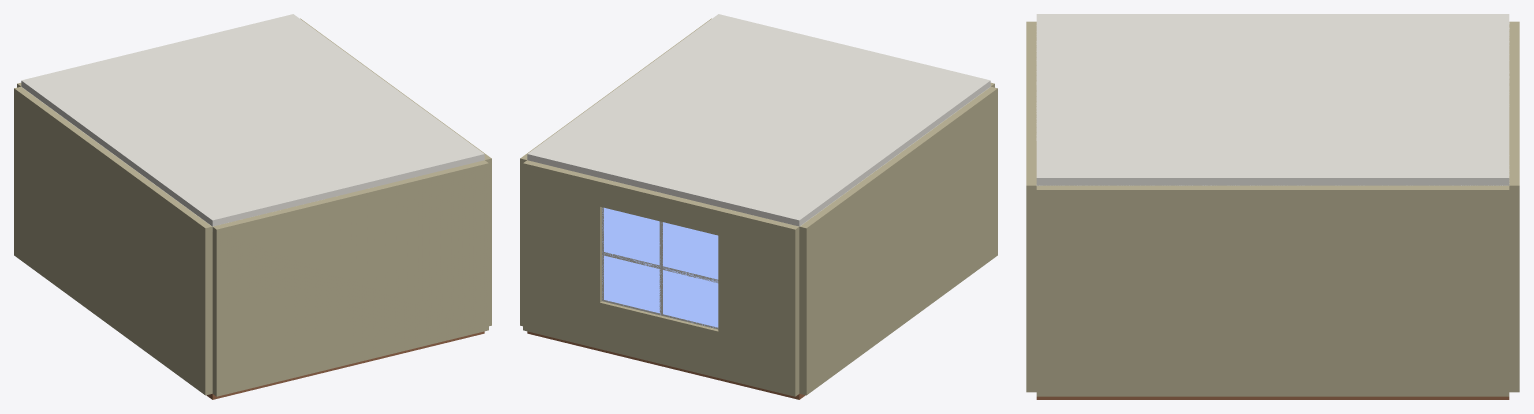
File: hotel-room-1967-p3.glb
The picture shows the model from 3 angles, left to right: view 1: azimuth 30°, elevation 25°; view 2: azimuth 150°, elevation 25°; view 3: azimuth 270°, elevation 25°; orthographic projection. The views are drawn at different scales.
Visible parts, largest first — view 1: room-shell; view 2: room-shell, window-mesh; view 3: room-shell.
Part boxes in pixels (left/top/right/bottom): room-shell: left=14, top=14, right=491, bottom=399; room-shell: left=520, top=14, right=997, bottom=399; window-mesh: left=602, top=207, right=718, bottom=329; room-shell: left=1026, top=14, right=1519, bottom=399.
Bounding box in the file's own units: 4.84 × 2.9 × 5.84.
